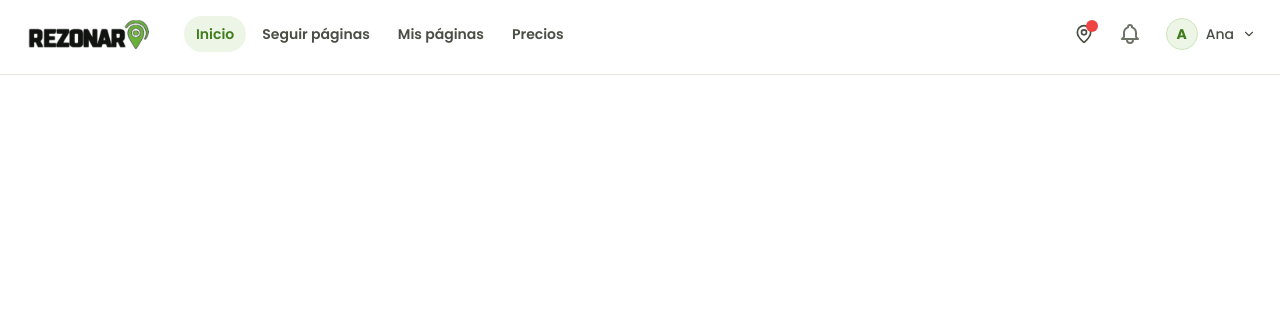
Test case: Navigation › menú de perfil › confirma visualmente que guardó
Click the text "Ana": [1220, 34] box [1206, 24, 1234, 44]
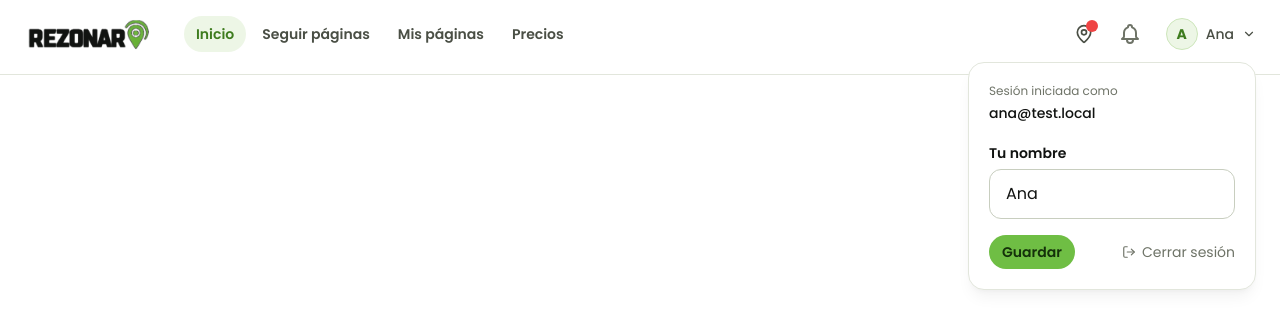
Click the button "Guardar": [1032, 252] box [989, 235, 1075, 269]
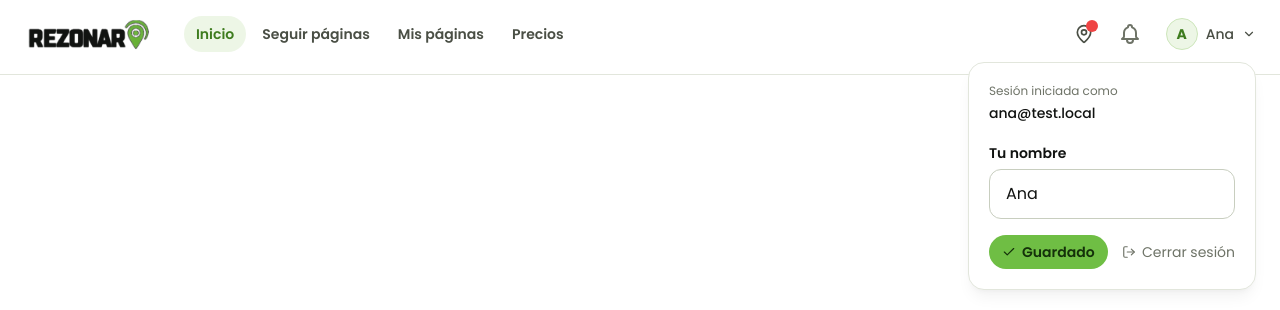
Now the button "Guardado" is shown, box [989, 235, 1108, 269]
